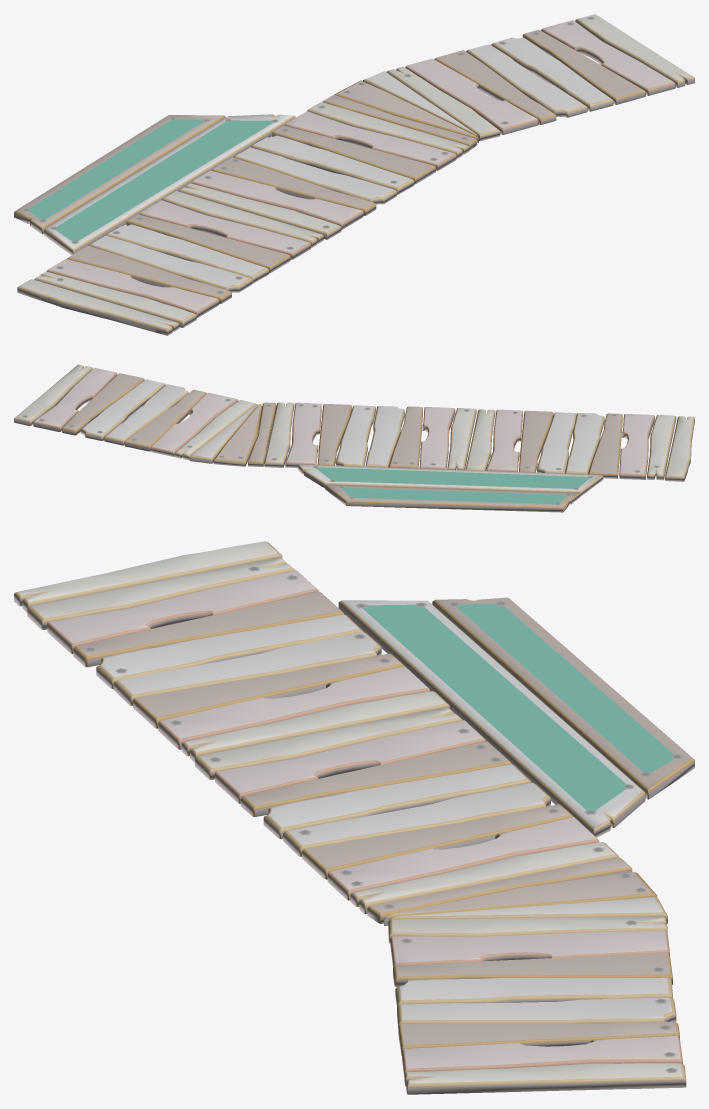
File: FishingDockLarge.glb
The picture shows the model from 3 angles, top to bottom: view 1: azimuth 30°, elevation 25°; view 2: azimuth 150°, elevation 25°; view 3: azimuth 270°, elevation 25°; orthographic projection. The views are drawn at different scales.
Visible parts, largest first — view 1: FishingDockLarge; view 2: FishingDockLarge; view 3: FishingDockLarge.
Part boxes in pixels (x1,y1,x2,y2): FishingDockLarge: (14,14,694,335); FishingDockLarge: (14,364,694,512); FishingDockLarge: (14,541,694,1094).
Size of the model in its own units: 17.09 by 0.1537 by 9.02.
